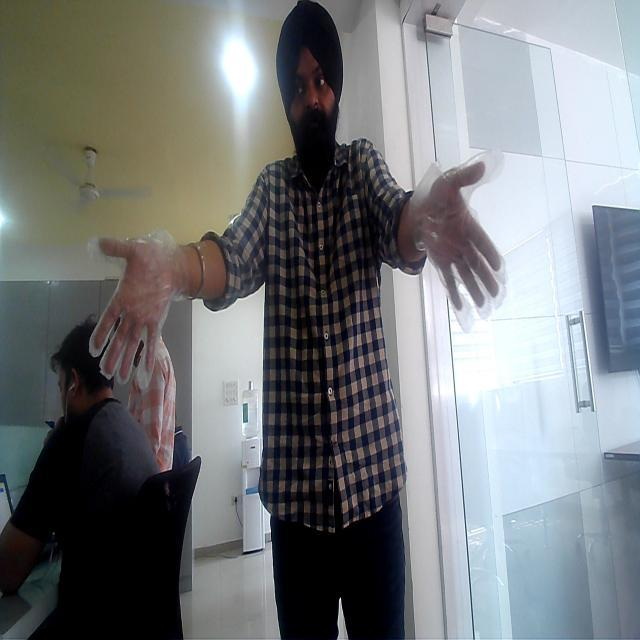with_gloves: (83, 219, 191, 396), (386, 139, 507, 291)
